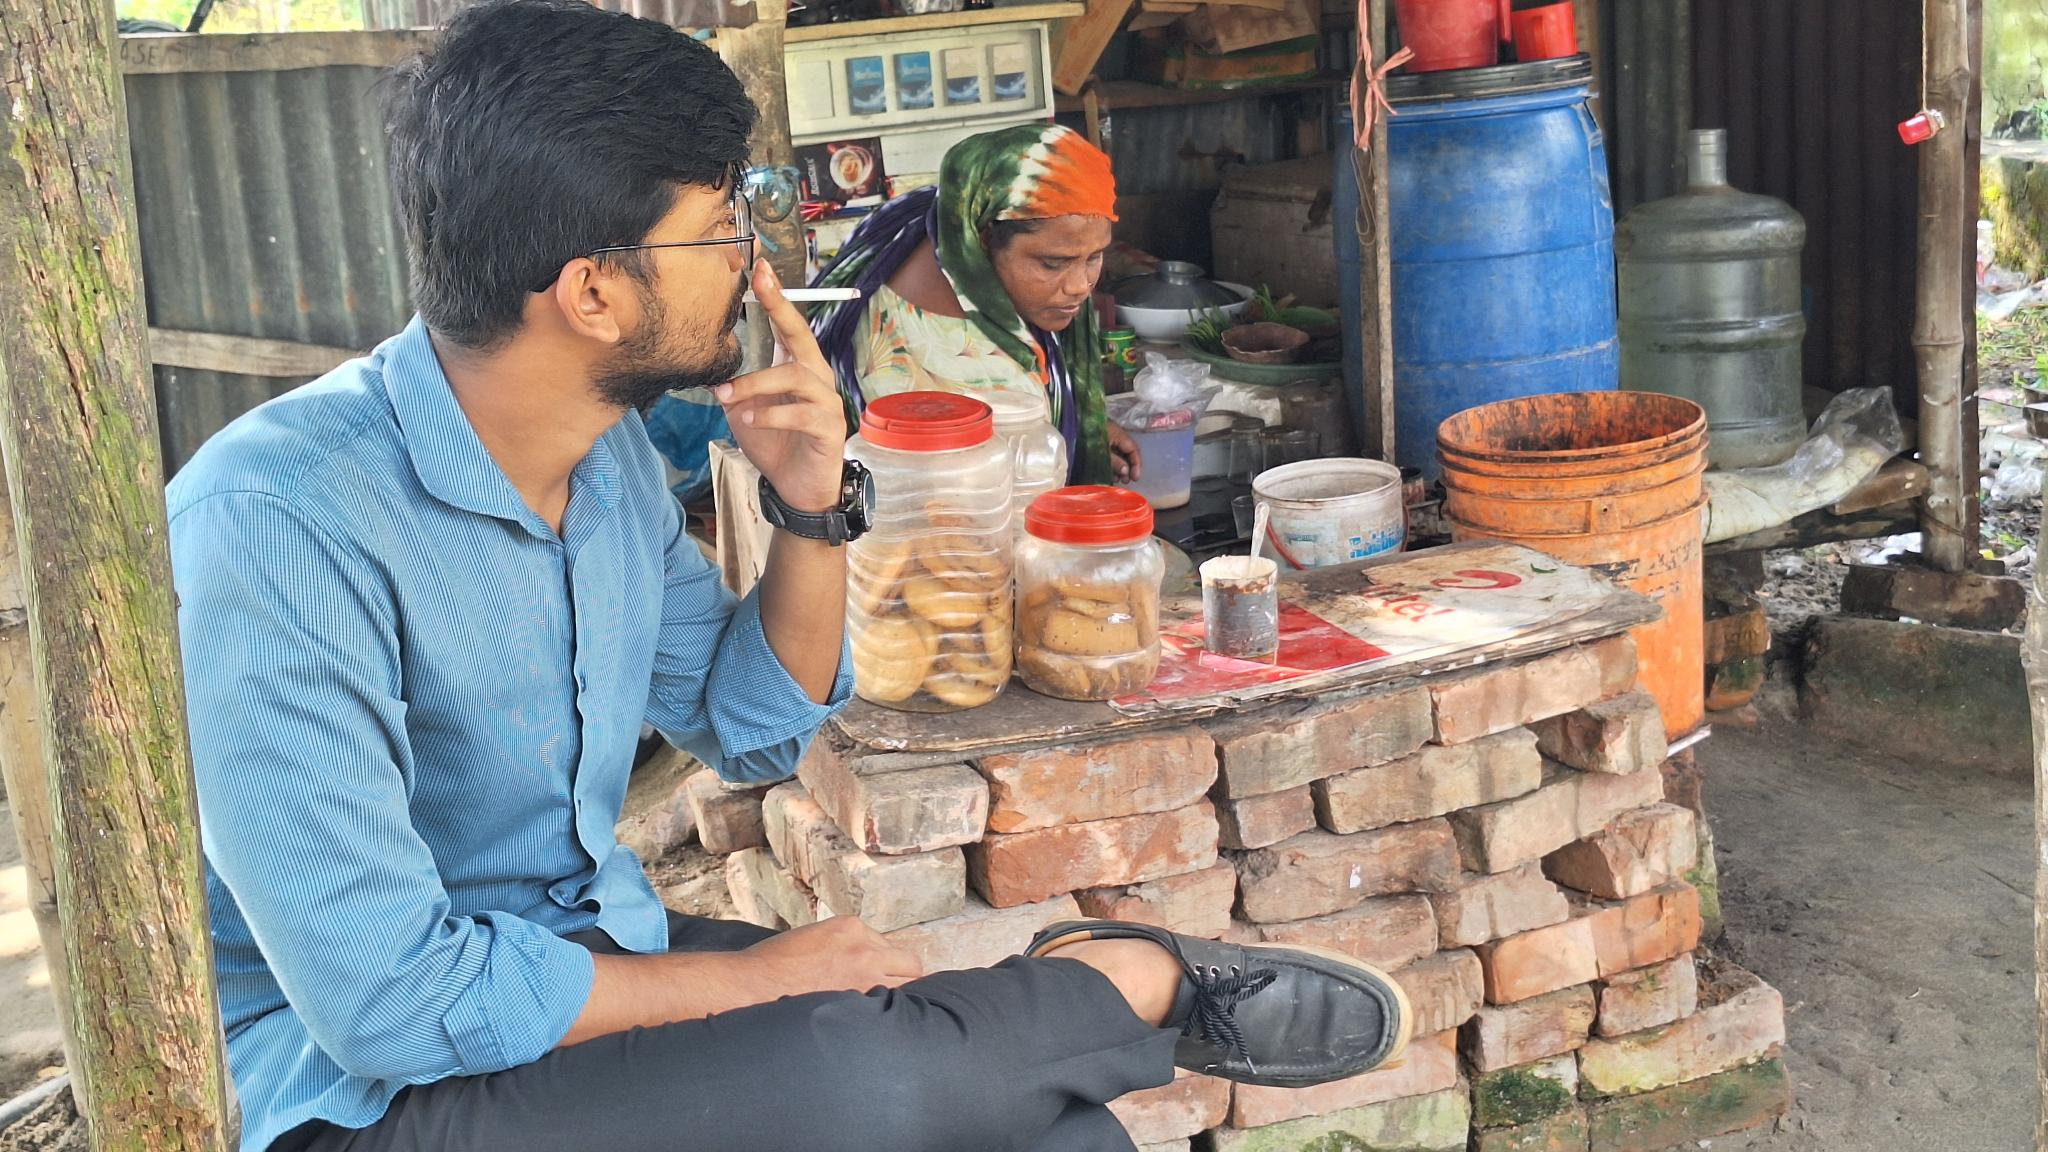cigarette: (733, 279, 865, 309)
nonSmoker: (847, 108, 1142, 511)
smoker: (158, 0, 1422, 1152)
